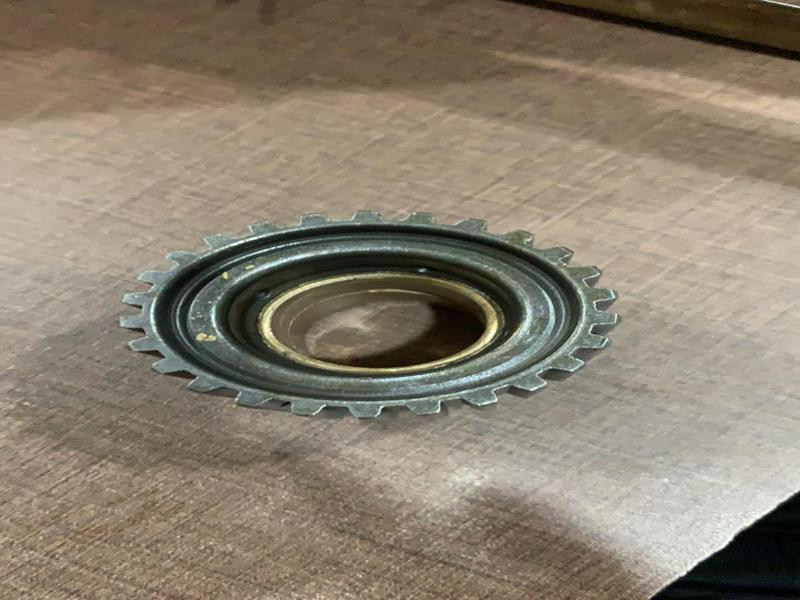engine gear alfa: (69, 146, 684, 470)
